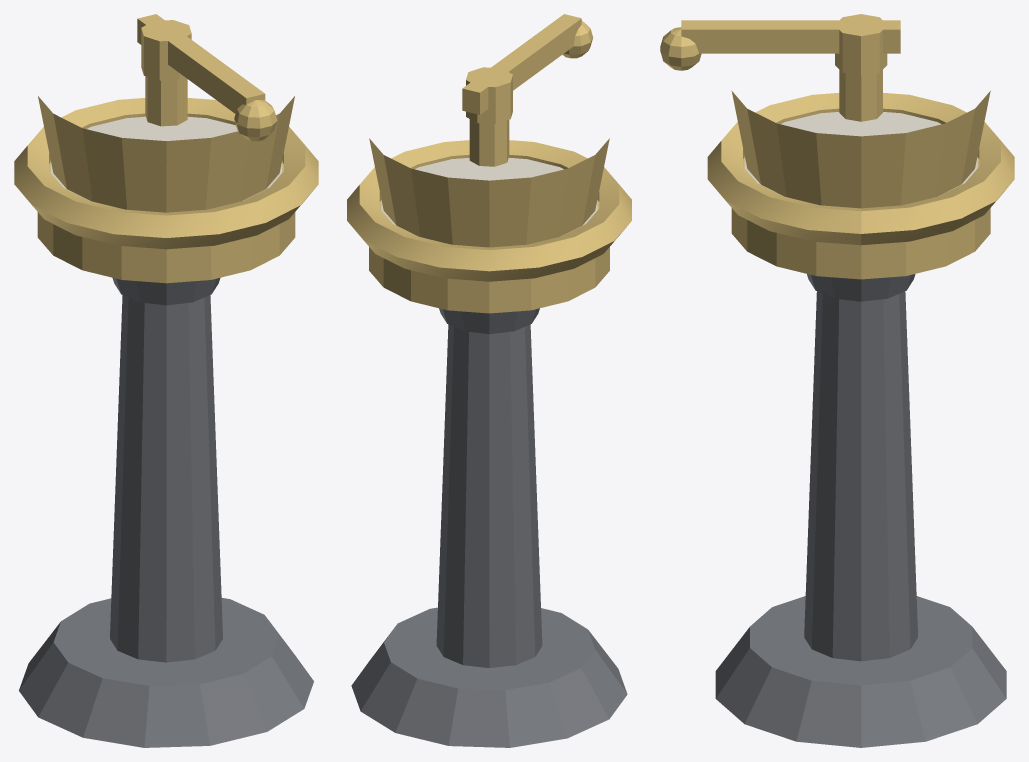
File: steampunk-airship-dock-and-workshop-engine-telegraph-85517a39__36073.glb
3 views of the same model, side by side, from view 1: azimuth 30°, elevation 25°; view 2: azimuth 150°, elevation 25°; view 3: azimuth 270°, elevation 25° (orthographic). The views are drawn at different scales.
Parts seen in each view (by area): view 1: engine-telegraph, telegraph-handle; view 2: engine-telegraph, telegraph-handle; view 3: engine-telegraph, telegraph-handle.
Boxes of the visible parts, bbox=[...] form: engine-telegraph: bbox=[14, 76, 318, 747]; telegraph-handle: bbox=[137, 14, 277, 141]; engine-telegraph: bbox=[347, 119, 631, 747]; telegraph-handle: bbox=[462, 14, 593, 123]; engine-telegraph: bbox=[707, 70, 1014, 747]; telegraph-handle: bbox=[660, 14, 900, 75].
Bounding box in the file's own units: 0.71 × 1.66 × 0.8072.
